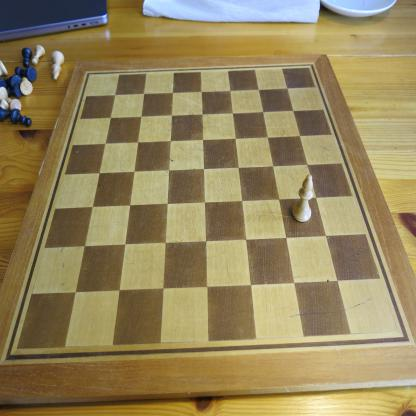black-pawn: (10, 108, 32, 128), (22, 47, 32, 68)
white-bishop: (292, 173, 314, 222), (50, 50, 65, 81)
white-pawn: (31, 44, 46, 66)
